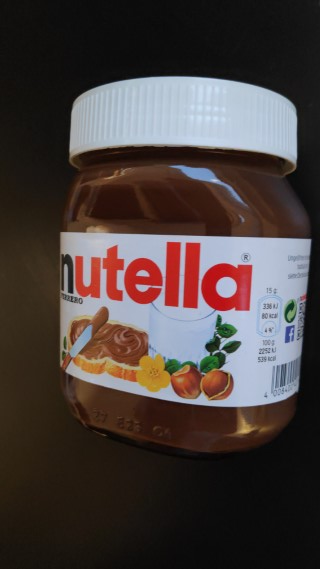nutella: (57, 74, 314, 458)
